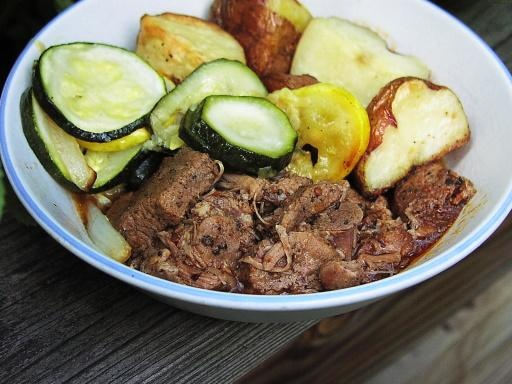background: (15, 0, 382, 177)
